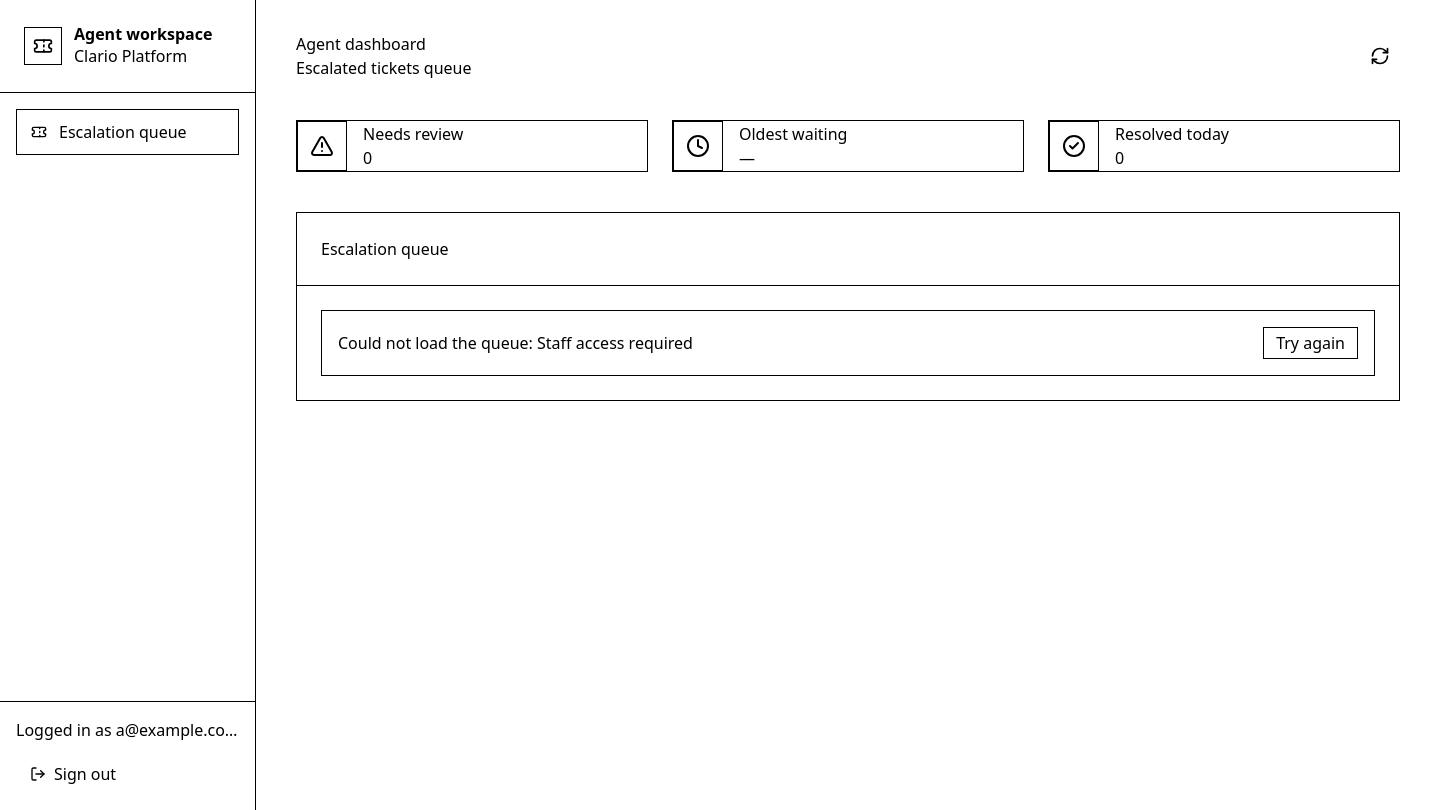
Test: Agent dashboard (UR-008 / FR-035) › shows the server error with a retry instead of an empty queue when loading fails
expect the message shows "Staff access required": met, box left=537, top=332, right=693, bottom=354
Click the button "Try again" at {"x": 1311, "y": 343}, box left=1263, top=327, right=1358, bottom=359
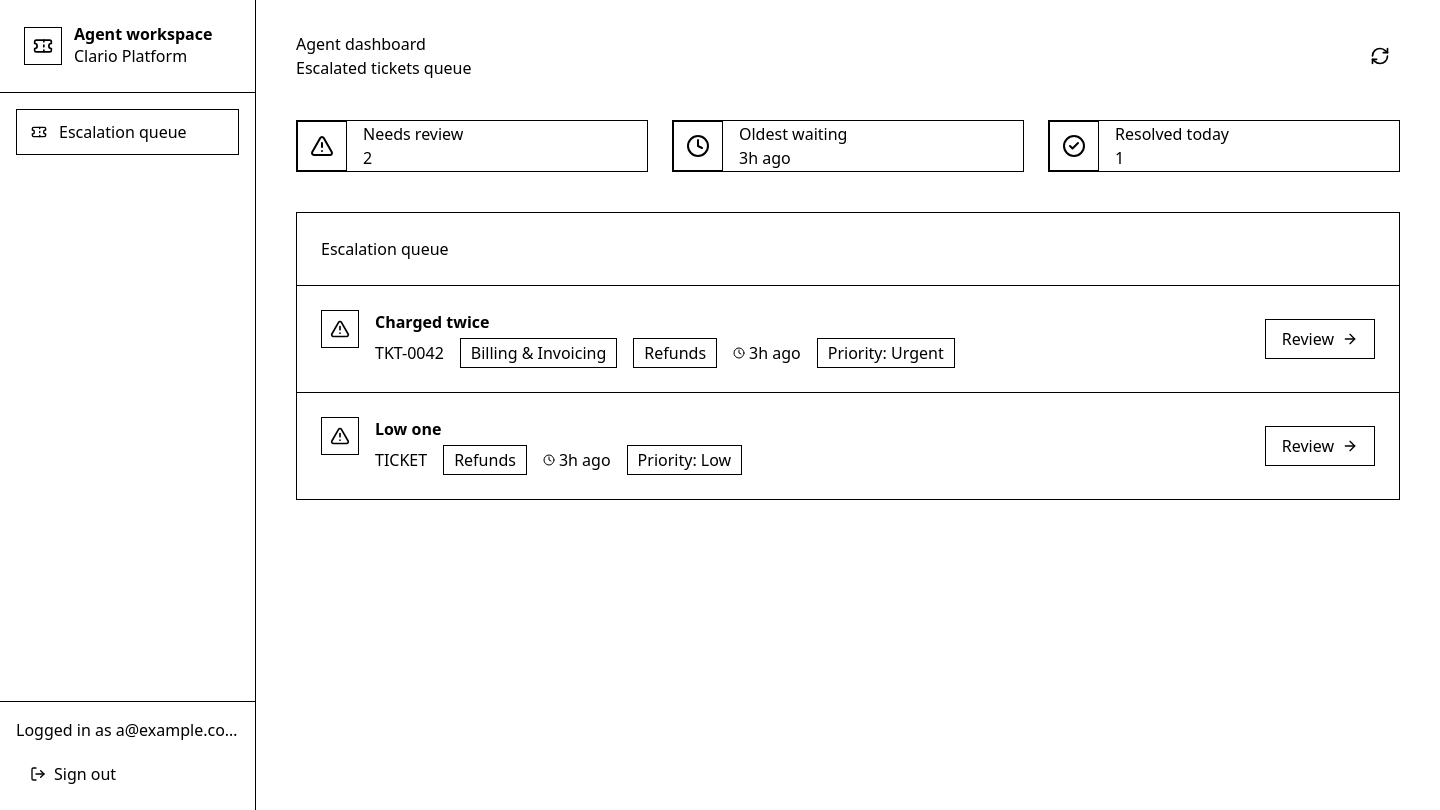
expect the number of list items is 2: met, box left=297, top=286, right=1399, bottom=393; left=321, top=417, right=1375, bottom=475
